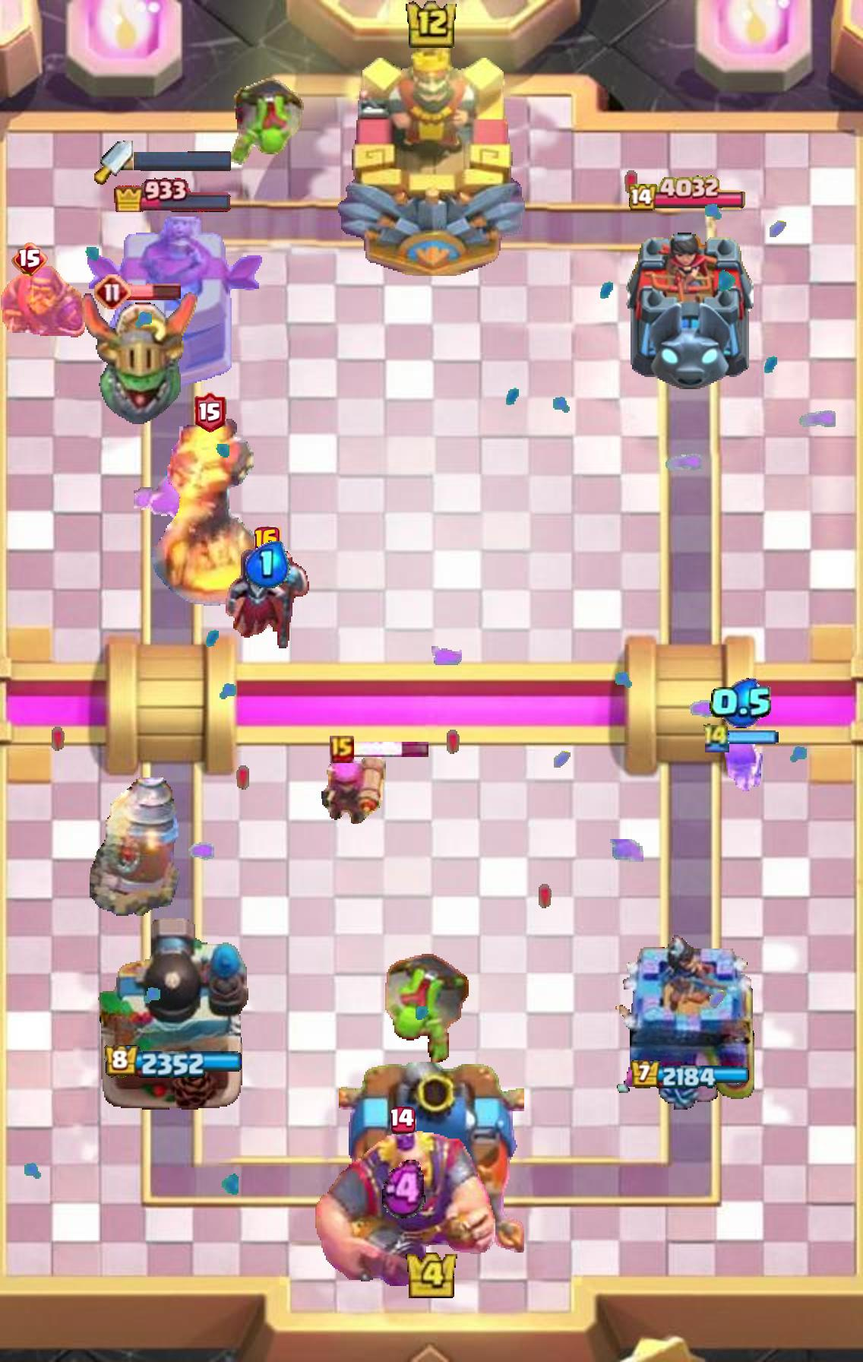elixir: (709, 678, 774, 728), (383, 1160, 426, 1220), (245, 541, 290, 588)
skeleton-evolution: (718, 734, 765, 795)
